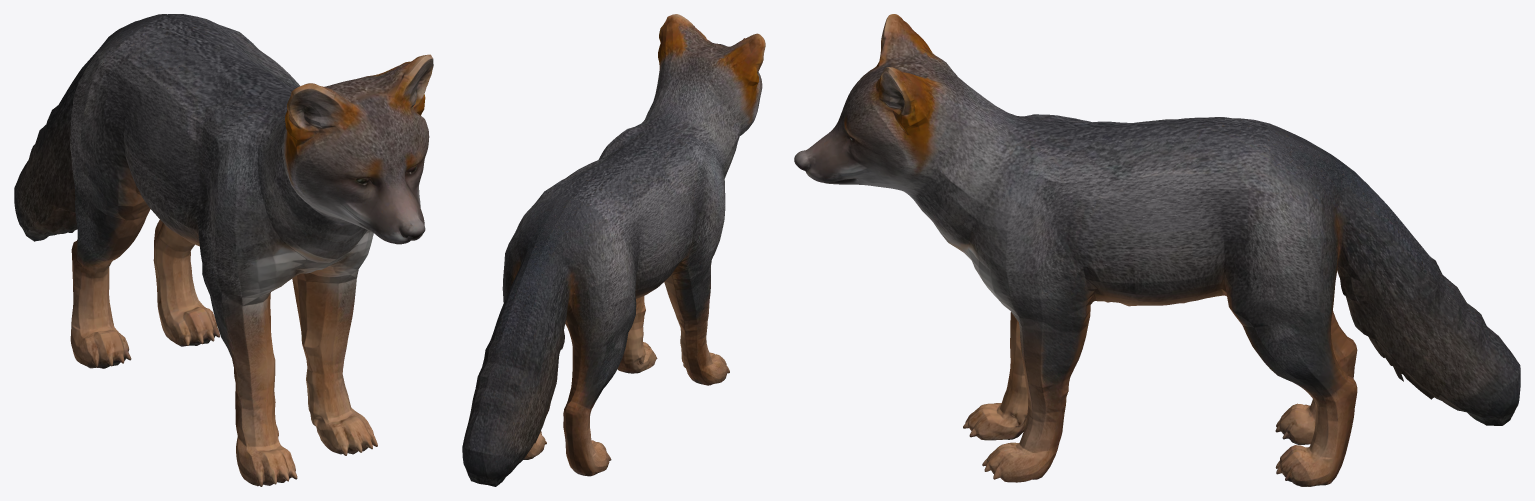
Rendered from zorrodedarwin.glb.
3 renders of one model, left to right at view 1: azimuth 30°, elevation 25°; view 2: azimuth 150°, elevation 25°; view 3: azimuth 270°, elevation 25°, orthographic. The views are drawn at different scales.
Parts seen in each view (by area): view 1: material; view 2: material; view 3: material.
Boxes of the visible parts, x1,y1,x2,y2 form: material: (14,14,433,486); material: (462,14,765,486); material: (794,14,1520,486).
Size of the model in its own units: 0.2651 by 0.6949 by 1.09.
Materials: 1 (1 with a texture image).
